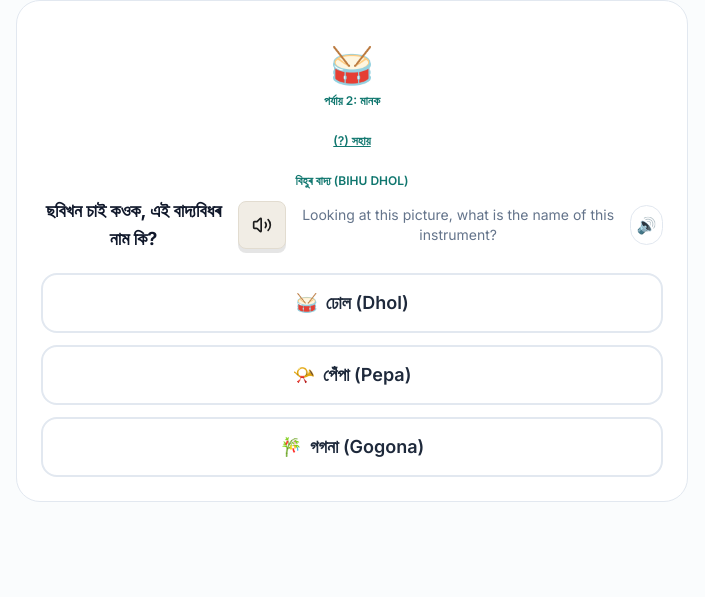
Task 22–25: Cognitive Game Modules & Cultural Reminiscence Tests › 2. GridMemoryGame provides gentle non-punitive hint and distractor elimination on error
This screenshot has width=705, height=597.
Expected: the text "বিহুৰ বাদ্য (Bihu Dhol)" is shown, [296,173,408,188]
Note: Select wrong option "pepa"
Click the button "📯পেঁপা (Pepa)". click: point(352, 375)
box: [41,345,663,405]
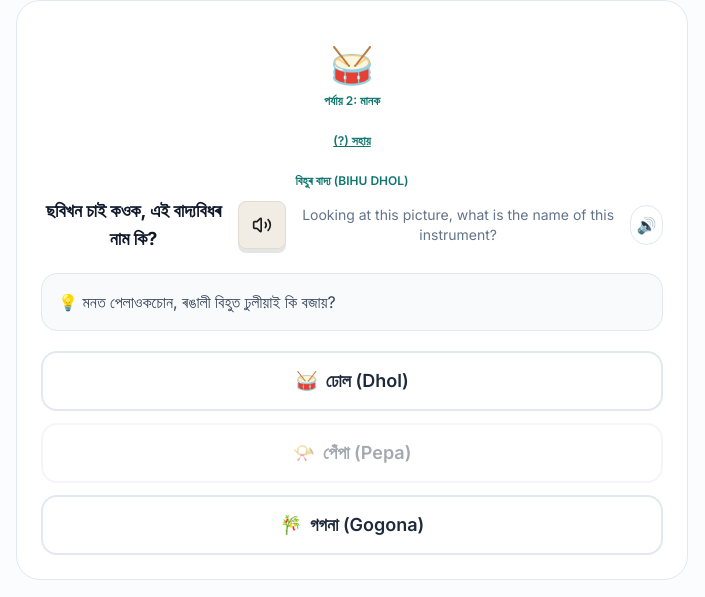
Now the text "💡 মনত পেলাওকচোন, ৰঙালী বিহুত ঢুলীয়াই কি বজায়?" is shown, box [41,273,663,331]
Now the button "📯পেঁপা (Pepa)" is disabled, box [41,423,663,483]
